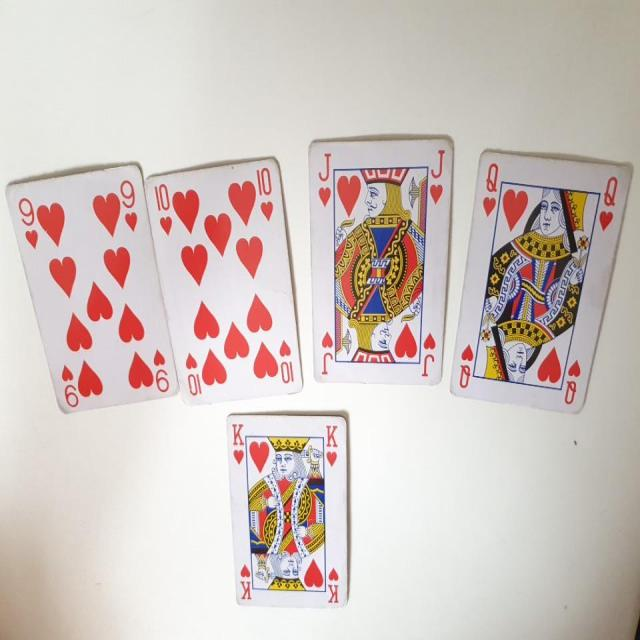10 Hearts: (142, 142, 307, 414)
9 Hearts: (1, 151, 192, 432)
J Hearts: (302, 122, 456, 388)
K Hearts: (223, 408, 349, 611)
Q Hearts: (449, 144, 634, 416)
